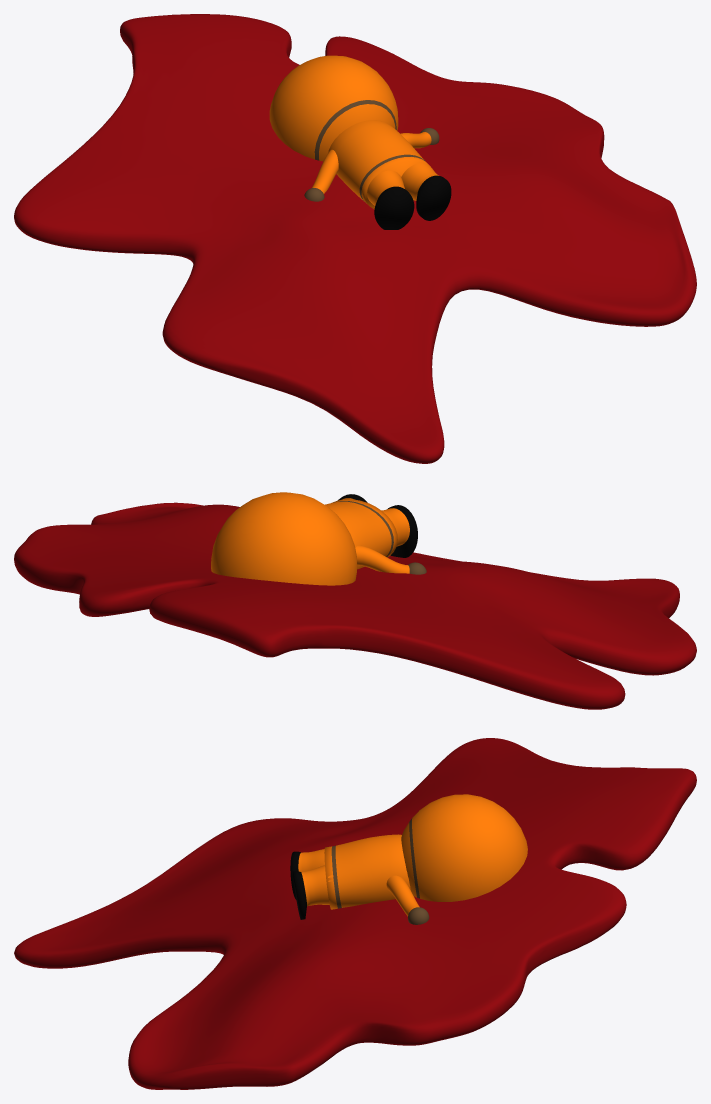
File: kenny_compressed.glb
3 renders of one model, top to bottom at view 1: azimuth 30°, elevation 25°; view 2: azimuth 150°, elevation 25°; view 3: azimuth 270°, elevation 25°, orthographic. The views are drawn at different scales.
Parts seen in each view (by area): view 1: Cube.1040, Sphere.015, Cylinder.172; view 2: Cube.1040, Sphere.015, Cylinder.172; view 3: Cube.1040, Sphere.015, Cylinder.172.
Part boxes in pixels (x1,y1,x2,y2): Cube.1040: (14,14,696,463); Sphere.015: (269,55,439,209); Cylinder.172: (374,175,451,229); Cube.1040: (14,502,696,709); Sphere.015: (211,492,426,585); Cylinder.172: (338,494,417,557); Cube.1040: (14,738,696,1089); Sphere.015: (298,794,527,924); Cylinder.172: (290,851,306,919).
Bounding box in the file's own units: 0.9968 × 0.367 × 1.03.
